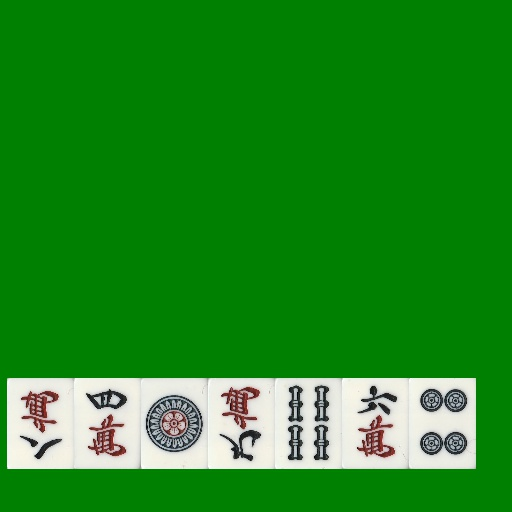1p: (141, 378, 208, 469)
4m: (74, 378, 141, 469)
4p: (409, 378, 476, 469)
4s: (275, 378, 342, 469)
6m: (342, 378, 409, 469)
8m: (7, 378, 74, 469)
9m: (208, 378, 275, 469)
